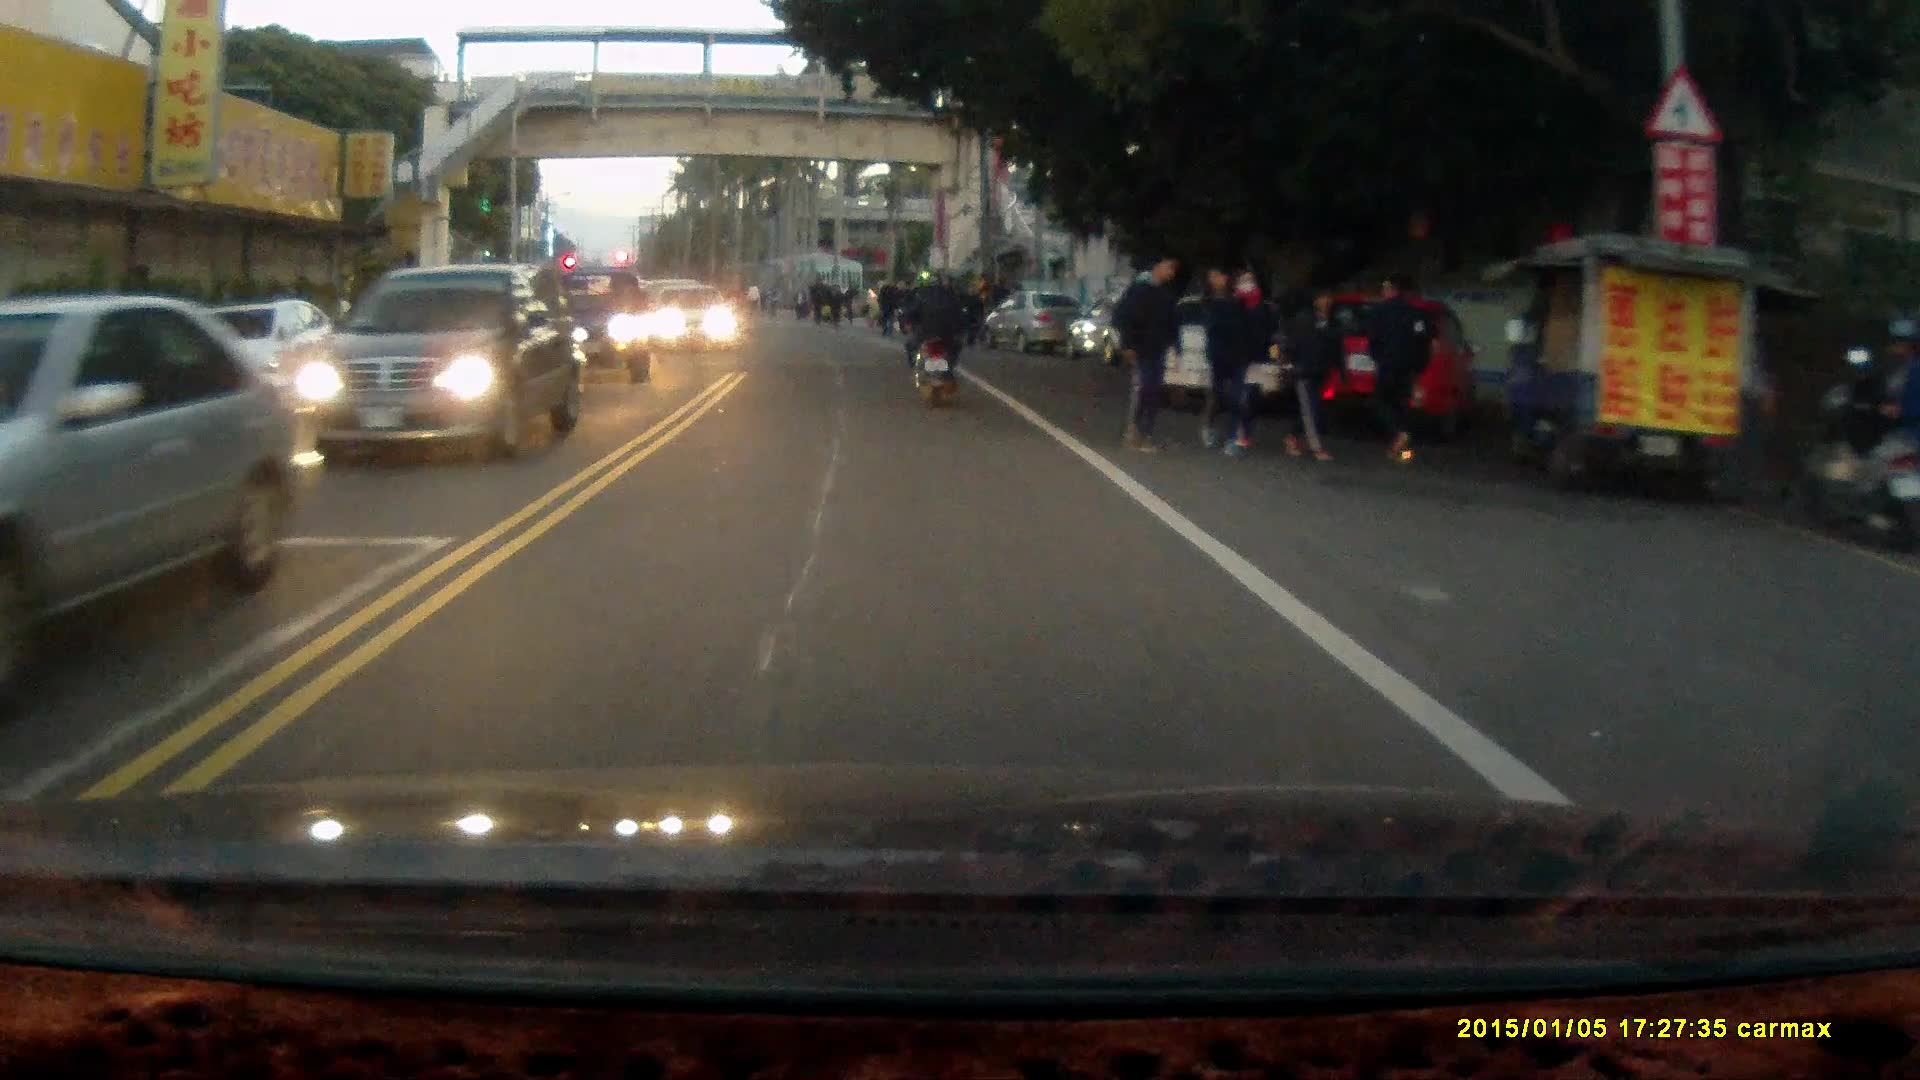pedestrian: (1110, 244, 1185, 456), (1361, 271, 1431, 467), (1282, 283, 1356, 462), (1194, 256, 1258, 457), (1219, 267, 1283, 454), (1868, 317, 1920, 504)
rider: (895, 271, 966, 410)
vehicle: (1, 295, 297, 698), (309, 262, 585, 463), (1274, 292, 1475, 443), (1146, 290, 1352, 427), (522, 270, 654, 389), (983, 292, 1087, 356), (656, 286, 745, 357)
